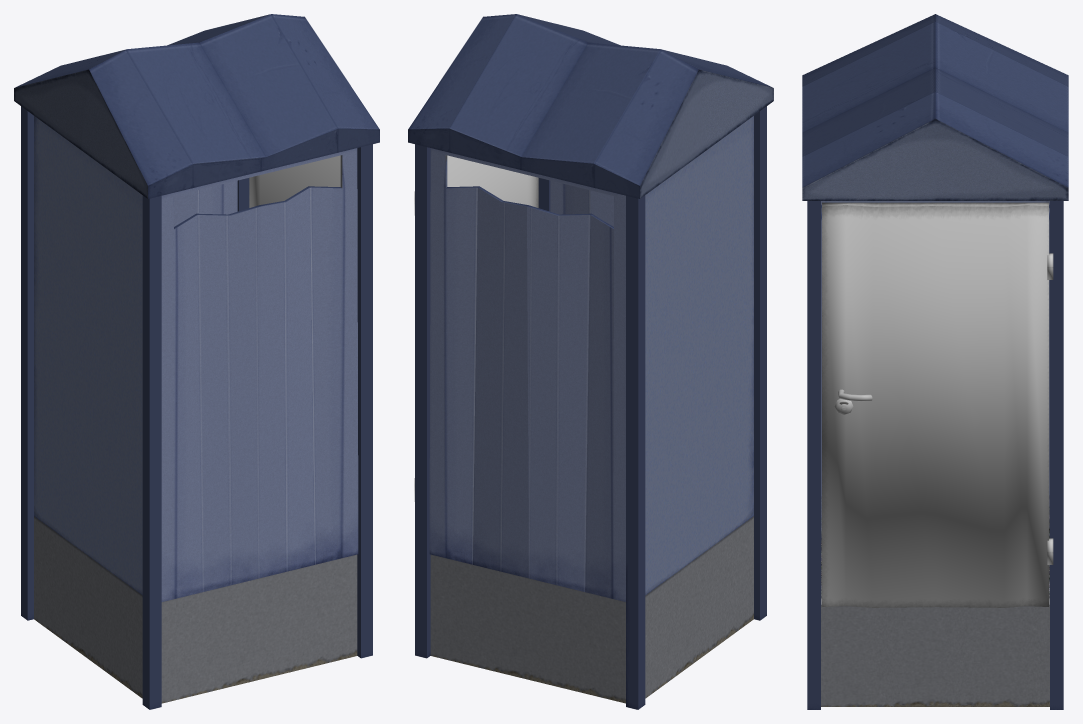
The model's file is StandsToilet.fbx.
3 views of the same model, side by side, from view 1: azimuth 30°, elevation 25°; view 2: azimuth 150°, elevation 25°; view 3: azimuth 270°, elevation 25° (orthographic).
Visible parts, largest first — view 1: Toilet_Stand, Toilet_Door_Hinge; view 2: Toilet_Stand, Toilet_Door_Hinge; view 3: Toilet_Door_Hinge, Toilet_Stand.
Boxes of the visible parts, x1=… form: Toilet_Stand: x1=14, y1=14, x2=379, y2=709; Toilet_Door_Hinge: x1=249, y1=155, x2=340, y2=207; Toilet_Stand: x1=408, y1=14, x2=773, y2=709; Toilet_Door_Hinge: x1=414, y1=155, x2=538, y2=501; Toilet_Door_Hinge: x1=822, y1=202, x2=1053, y2=607; Toilet_Stand: x1=802, y1=14, x2=1068, y2=709.
Size of the model in its own units: 136 by 321 by 129.
